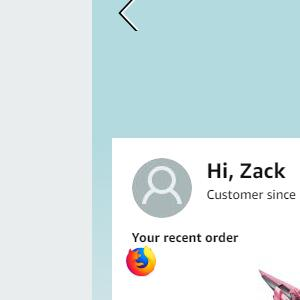firefox: (125, 245, 157, 277)
